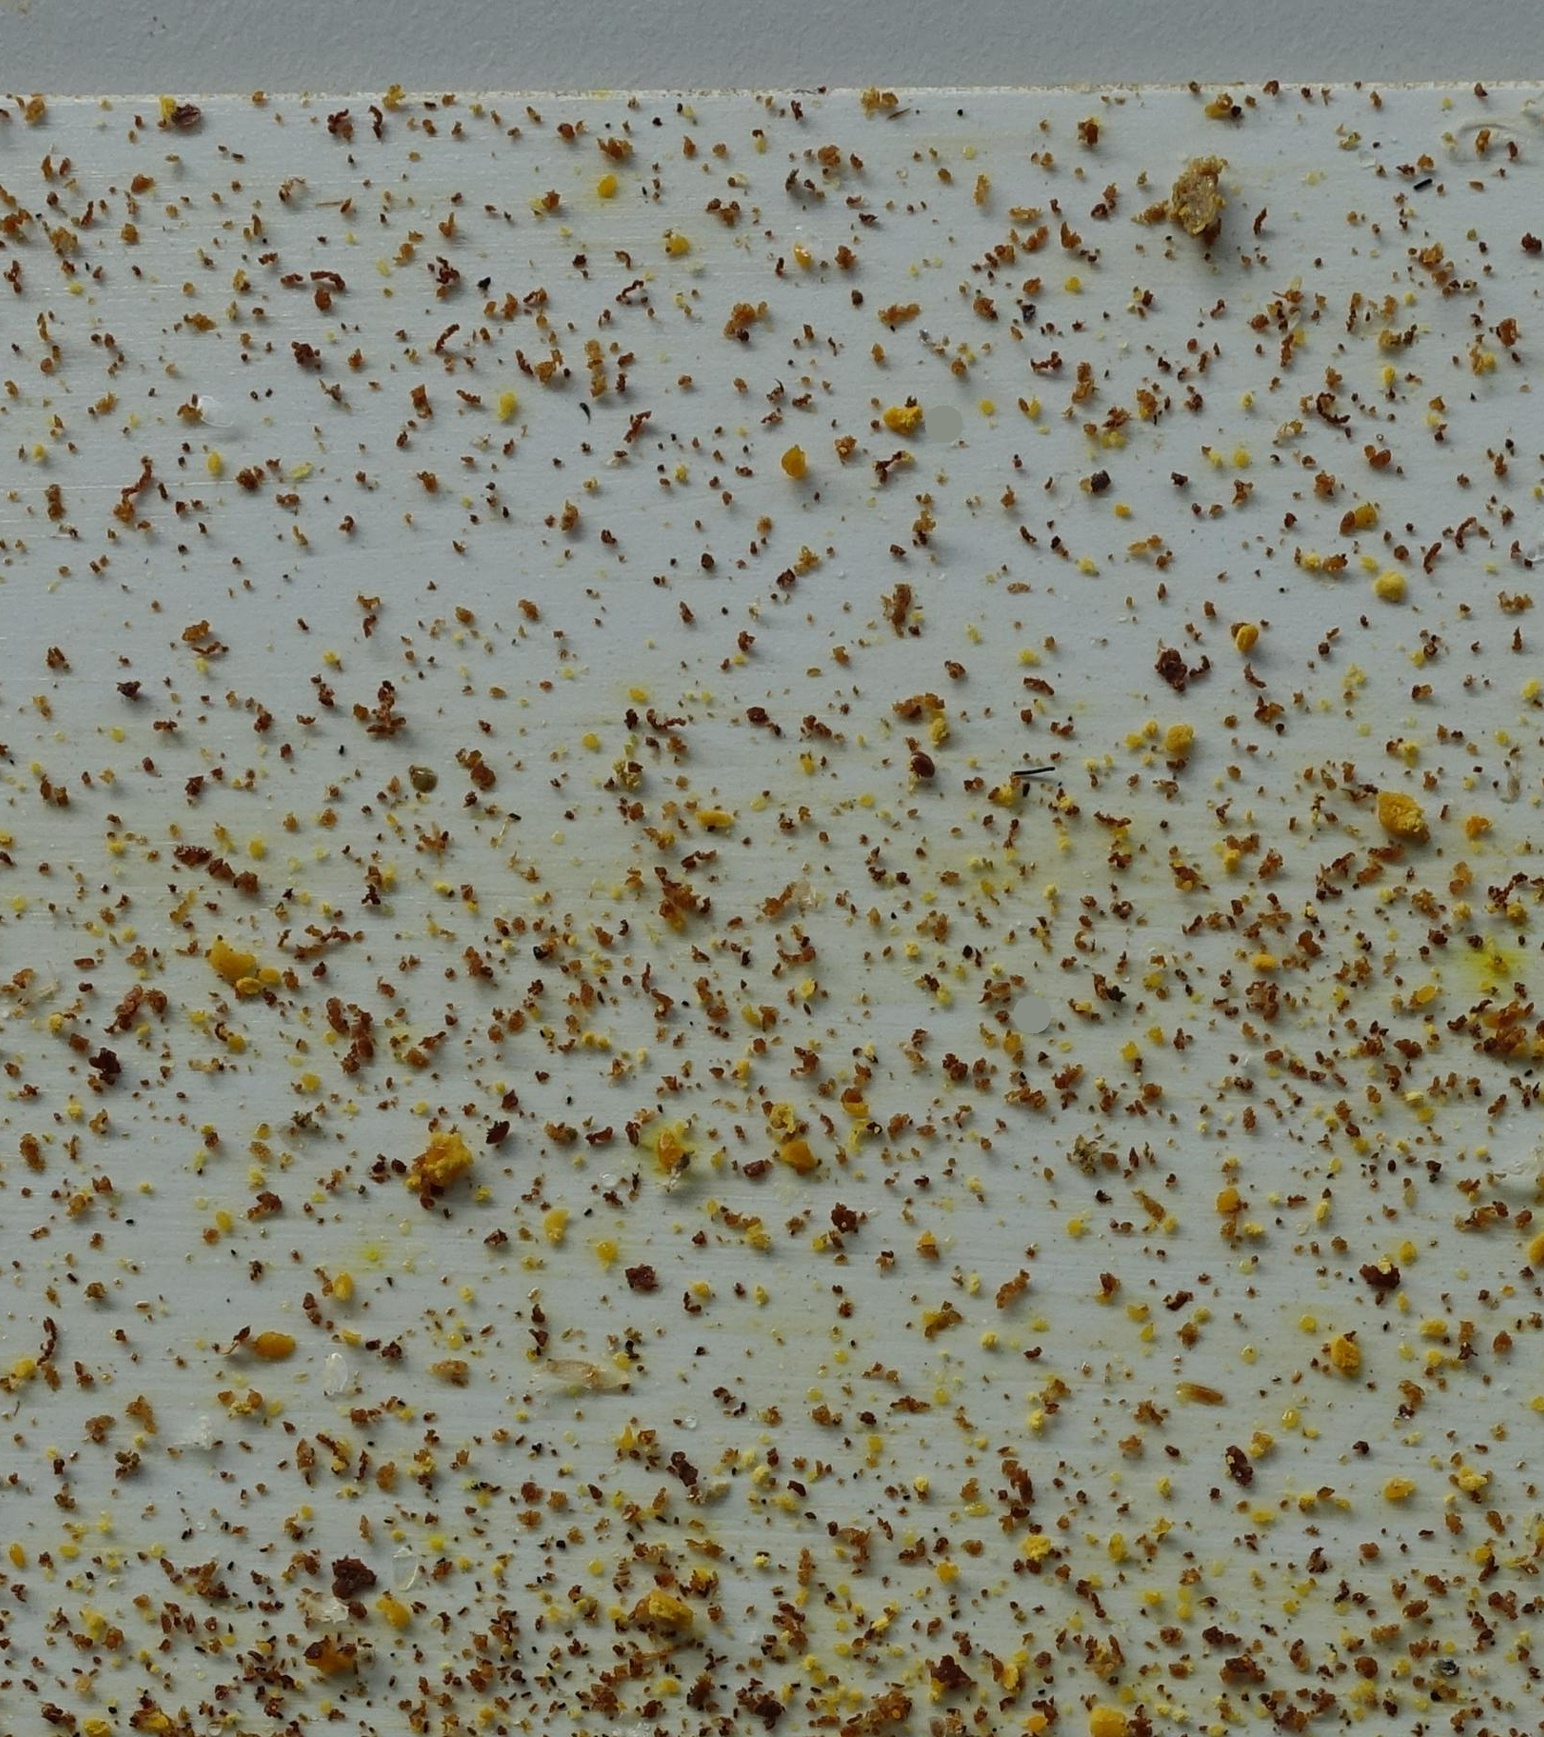Varroa: (475, 1105, 519, 1146), (162, 94, 203, 134), (337, 1588, 377, 1628), (751, 1691, 782, 1724), (911, 752, 936, 778)
